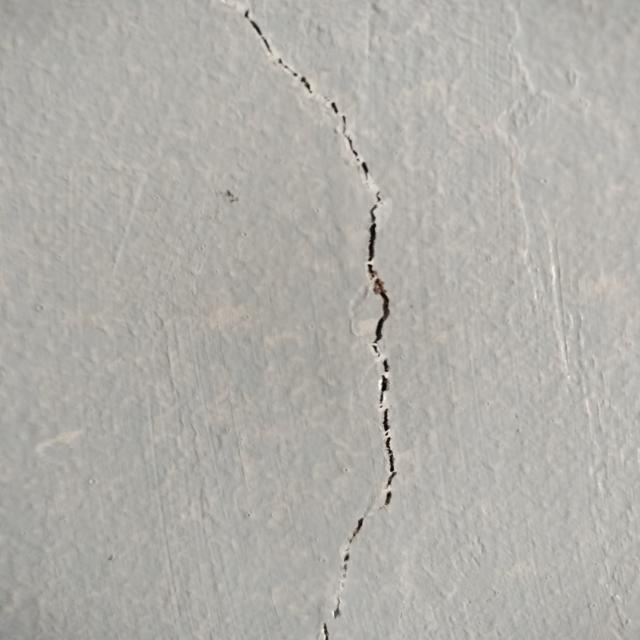Crack: (234, 1, 406, 640)
